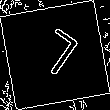L_SW: (28, 26, 82, 84)
